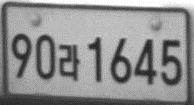0: (35, 33, 56, 79)
1: (87, 36, 103, 82)
4: (132, 37, 157, 85)
5: (160, 39, 183, 87)
6: (110, 37, 132, 84)
9: (10, 32, 32, 79)
라: (58, 43, 80, 83)
